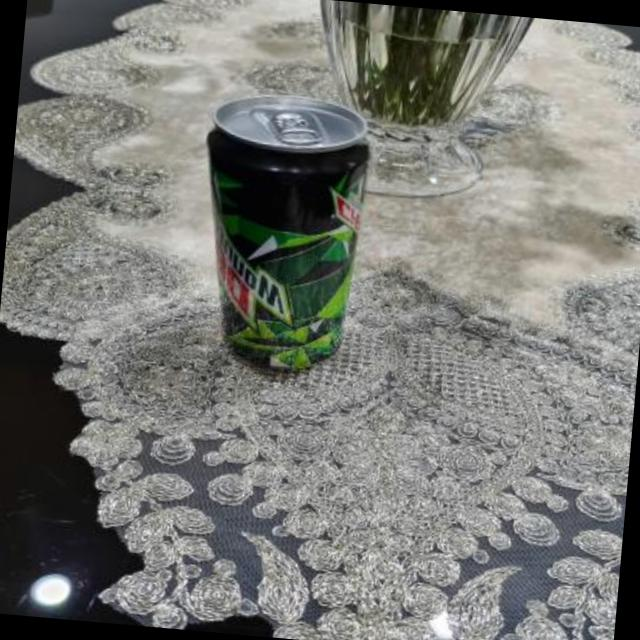metal: (207, 94, 370, 371)
